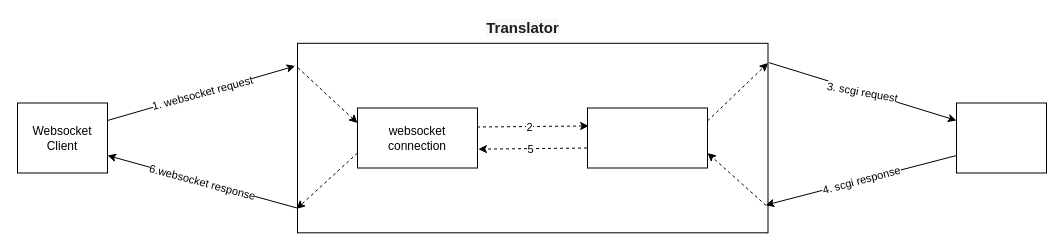
Image size: 1064x250. Some labels were removed from this diagram. The centre of each missing label's shape, as x and y in pixels:
"rTorrent" belongs at point 1001,137.
"scgi connection" belongs at point 647,137.
